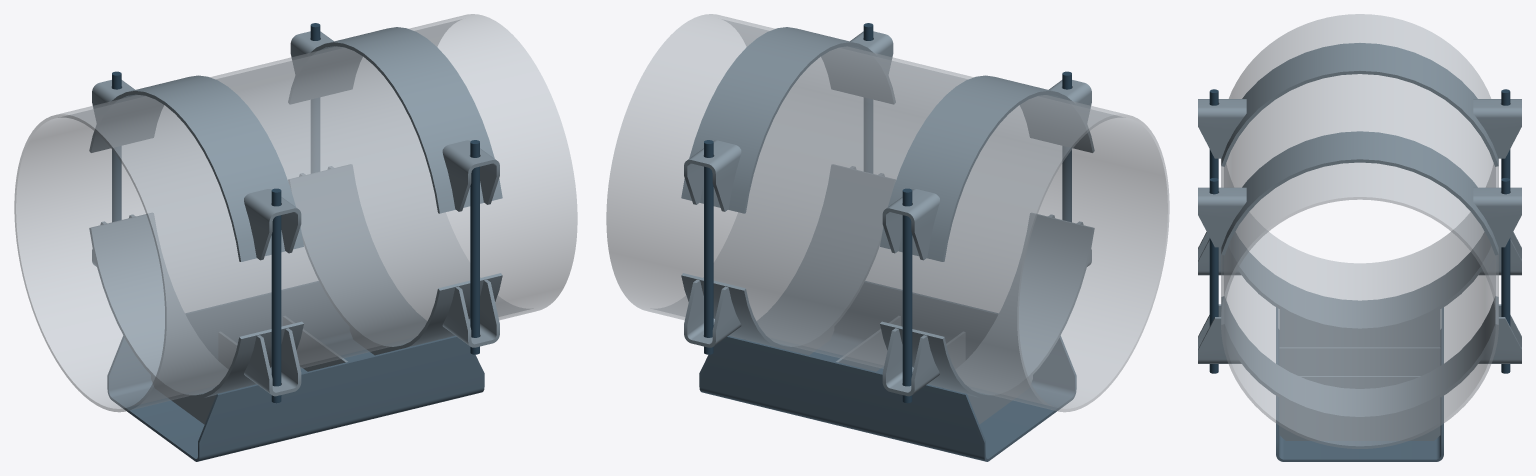
The model's file is TS-627.00.000-060-opora-dn630-H100-L680.glb.
3 renders of one model, left to right at view 1: azimuth 30°, elevation 25°; view 2: azimuth 150°, elevation 25°; view 3: azimuth 270°, elevation 25°, orthographic. The views are drawn at different scales.
Visible parts, largest first — view 1: truba, skoba_0, podushka_5, podushka_6, bugel0_podushka_0, bugel1_podushka_0, bugel0_ushko_2, bugel1_ushko_2, ushko_8, ushko_10, shpilka_0_-1, shpilka_1_-1 (+6 smaller); view 2: truba, skoba_0, podushka_5, podushka_6, bugel0_podushka_0, bugel1_podushka_0, bugel0_ushko_1, bugel1_ushko_1, ushko_7, ushko_9, shpilka_0_1, shpilka_1_1 (+6 smaller); view 3: truba, podushka_6, podushka_5, bugel1_podushka_0, bugel0_podushka_0, rebro4_2, rebro5_3, skoba_0, rebro4_1, bugel1_ushko_1, bugel1_ushko_2, bugel0_ushko_1 (+10 smaller).
Part boxes in pixels (bbox=[...]): truba: bbox=[14, 14, 577, 412]; skoba_0: bbox=[107, 281, 484, 461]; podushka_5: bbox=[89, 213, 303, 399]; podushka_6: bbox=[288, 164, 502, 350]; bugel0_podushka_0: bbox=[89, 75, 303, 261]; bugel1_podushka_0: bbox=[288, 27, 502, 213]; bugel0_ushko_2: bbox=[244, 189, 301, 260]; bugel1_ushko_2: bbox=[442, 140, 499, 211]; ushko_8: bbox=[244, 328, 301, 396]; ushko_10: bbox=[442, 279, 499, 347]; shpilka_0_-1: bbox=[271, 188, 281, 403]; shpilka_1_-1: bbox=[470, 140, 479, 354]; truba: bbox=[606, 14, 1169, 412]; skoba_0: bbox=[699, 281, 1076, 461]; podushka_5: bbox=[880, 213, 1094, 399]; podushka_6: bbox=[681, 164, 895, 350]; bugel0_podushka_0: bbox=[880, 75, 1094, 261]; bugel1_podushka_0: bbox=[681, 27, 895, 213]; bugel0_ushko_1: bbox=[882, 189, 939, 260]; bugel1_ushko_1: bbox=[684, 140, 741, 211]; ushko_7: bbox=[882, 328, 939, 396]; ushko_9: bbox=[684, 279, 741, 347]; shpilka_0_1: bbox=[902, 188, 912, 403]; shpilka_1_1: bbox=[704, 140, 713, 354]; truba: bbox=[1221, 14, 1498, 448]; podushka_6: bbox=[1221, 296, 1498, 420]; podushka_5: bbox=[1227, 232, 1492, 331]; bugel1_podushka_0: bbox=[1221, 131, 1498, 255]; bugel0_podushka_0: bbox=[1221, 43, 1498, 166]; rebro4_2: bbox=[1279, 398, 1440, 440]; rebro5_3: bbox=[1279, 347, 1440, 375]; skoba_0: bbox=[1276, 307, 1443, 461]; rebro4_1: bbox=[1279, 309, 1440, 347]; bugel1_ushko_1: bbox=[1473, 187, 1521, 247]; bugel1_ushko_2: bbox=[1198, 187, 1246, 247]; bugel0_ushko_1: bbox=[1473, 99, 1521, 158].
Size of the model in its own units: 980 by 743 by 733.
